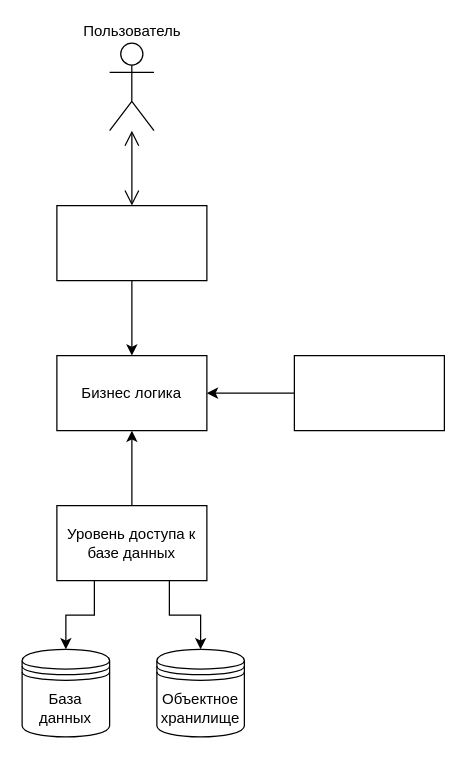
Image size: 466x759. Some labels were removed from this diagram. The centre of each missing label's shape, as x and y in pixels:
"Интерфейс" belongs at pixel 131 242.
"Сервис оплаты" belongs at pixel 368 392.
